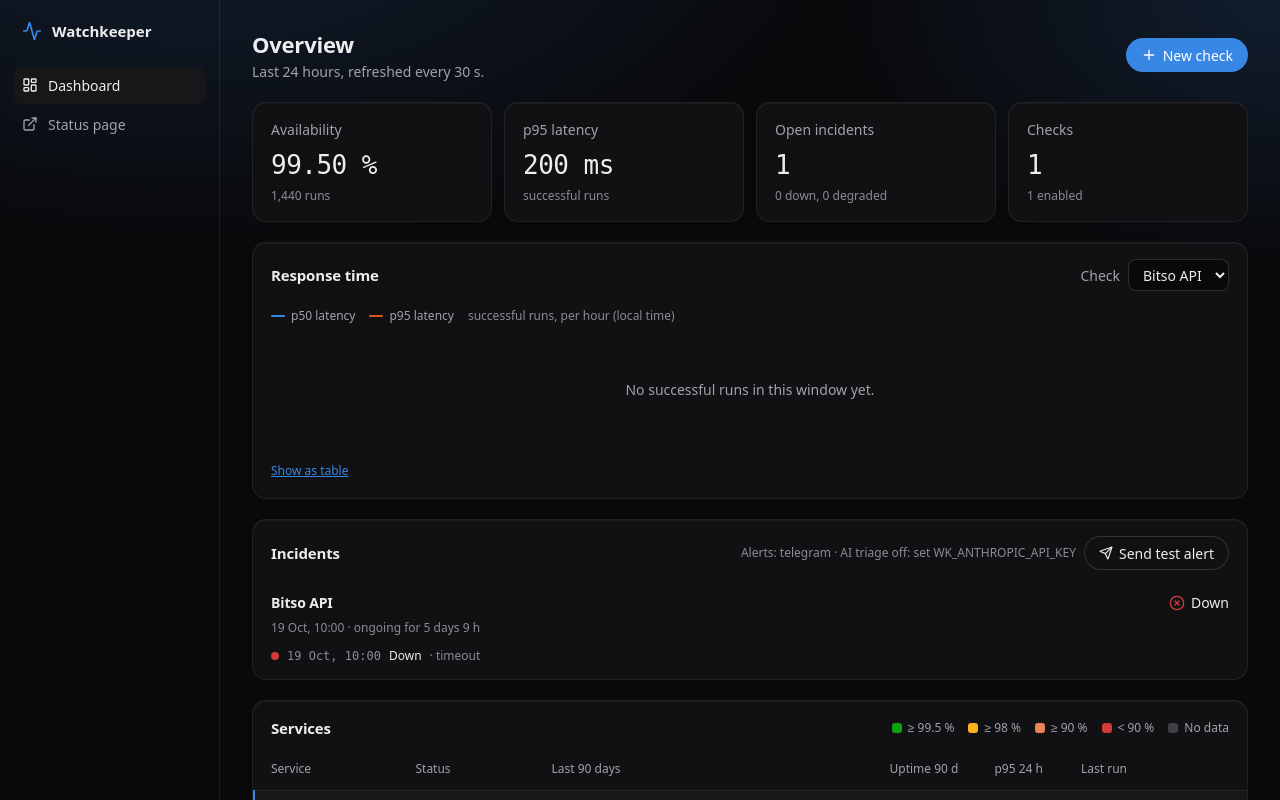
Scenario: App › shows API validation errors next to the field
The width and height of the screenshot is (1280, 800).
Click the button "New check" at (1187, 55), box x1=1126 y1=38 x2=1248 y2=72
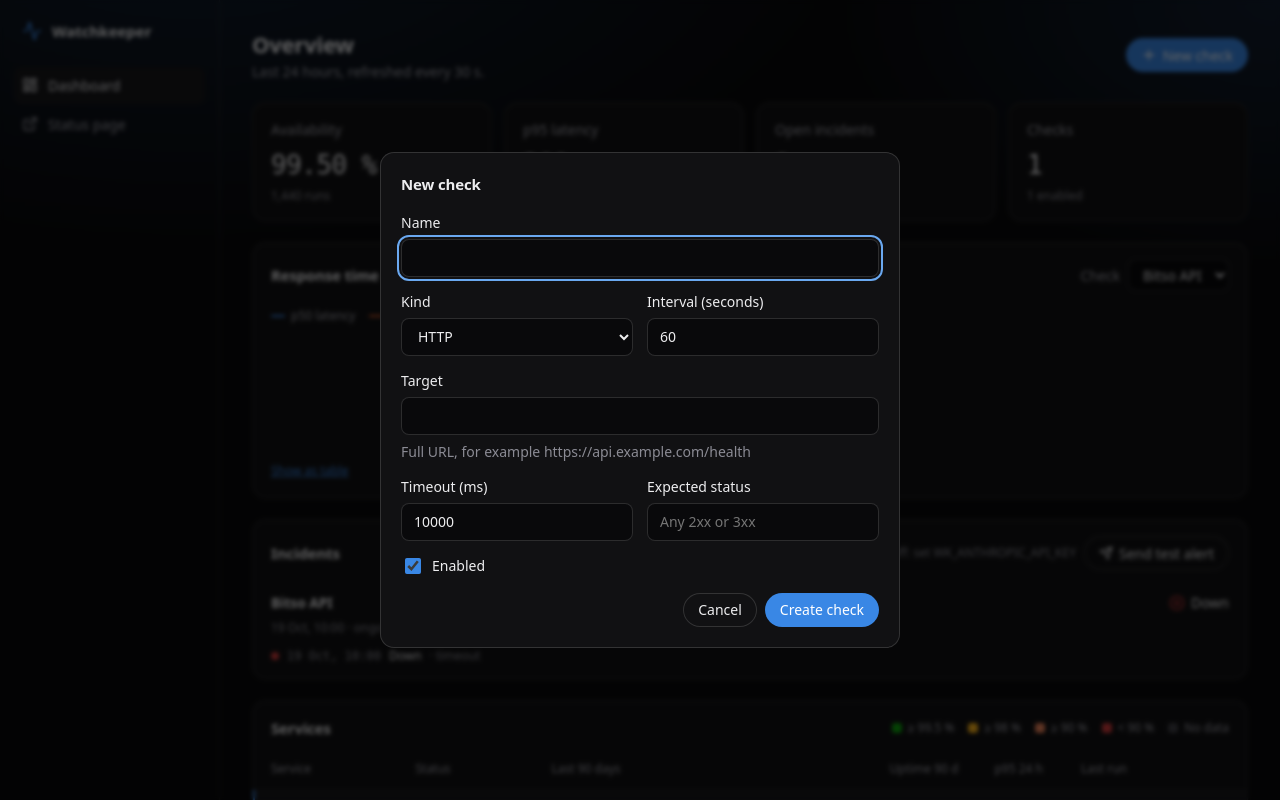
Type "API" into the field labelled "Name" at (640, 258), box x1=401 y1=239 x2=879 y2=277
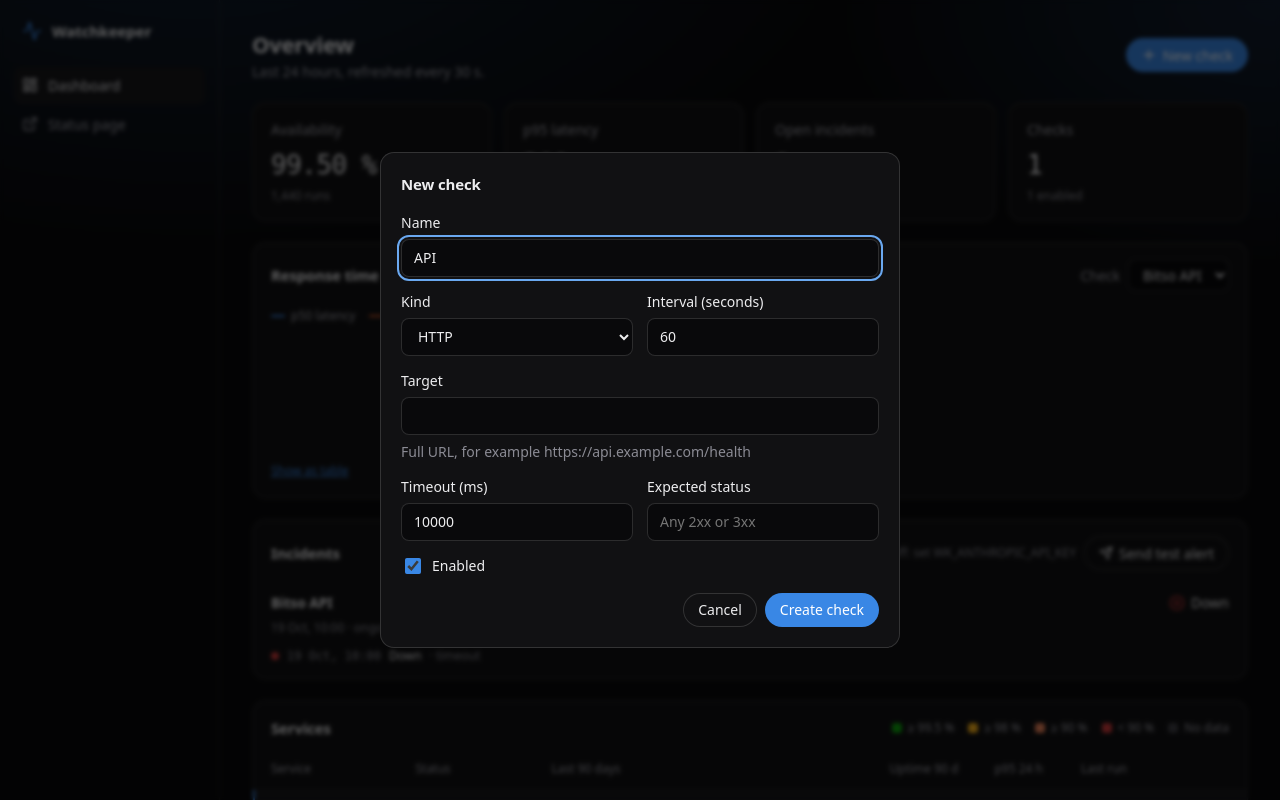
Type "api.example.com" into the field labelled "Target" at (640, 416), box x1=401 y1=397 x2=879 y2=435
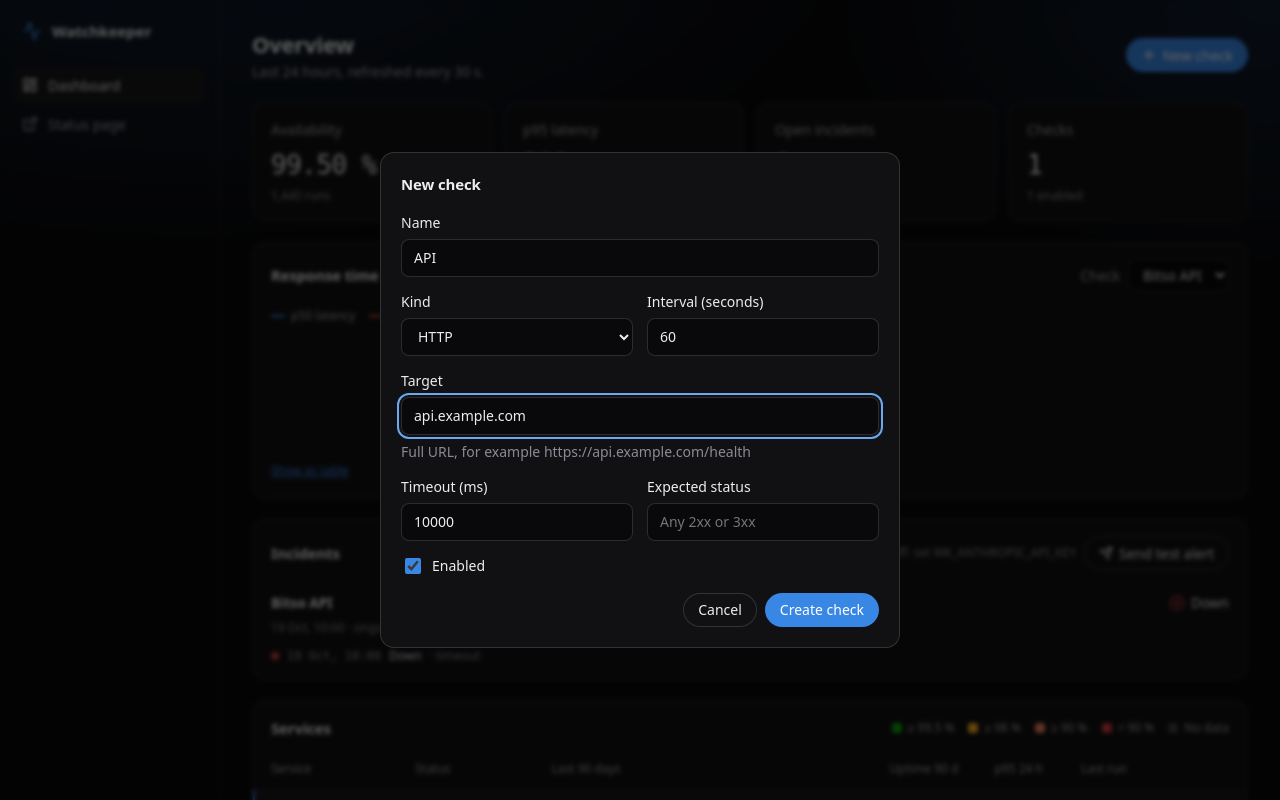
Click the button "Create check" at (822, 610), box x1=765 y1=593 x2=879 y2=627
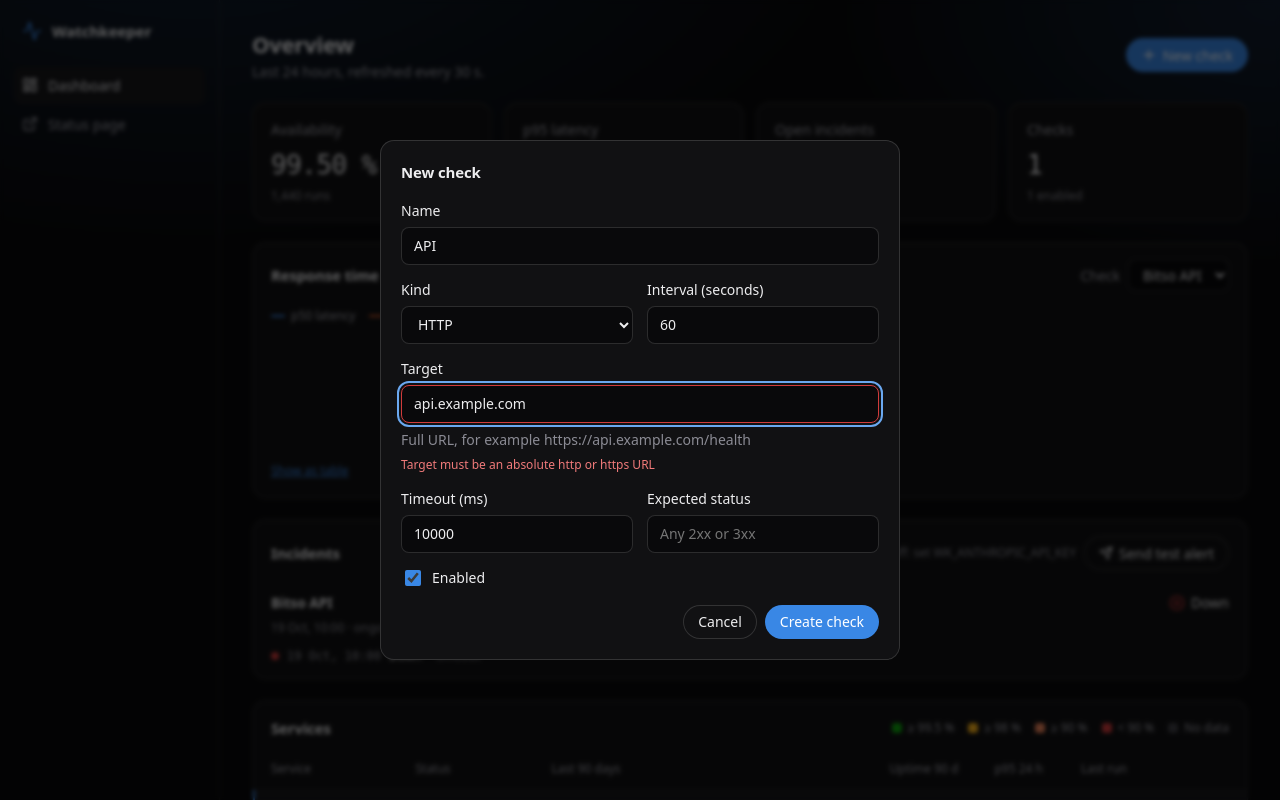
Expected: the text "Target must be an absolute http or https URL" is shown, x1=401 y1=456 x2=655 y2=473
